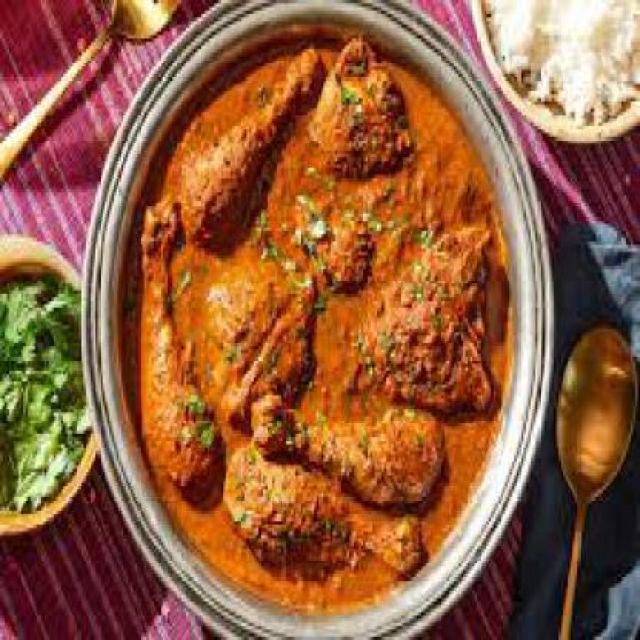CHICKEN CURRY: (120, 36, 514, 610)
